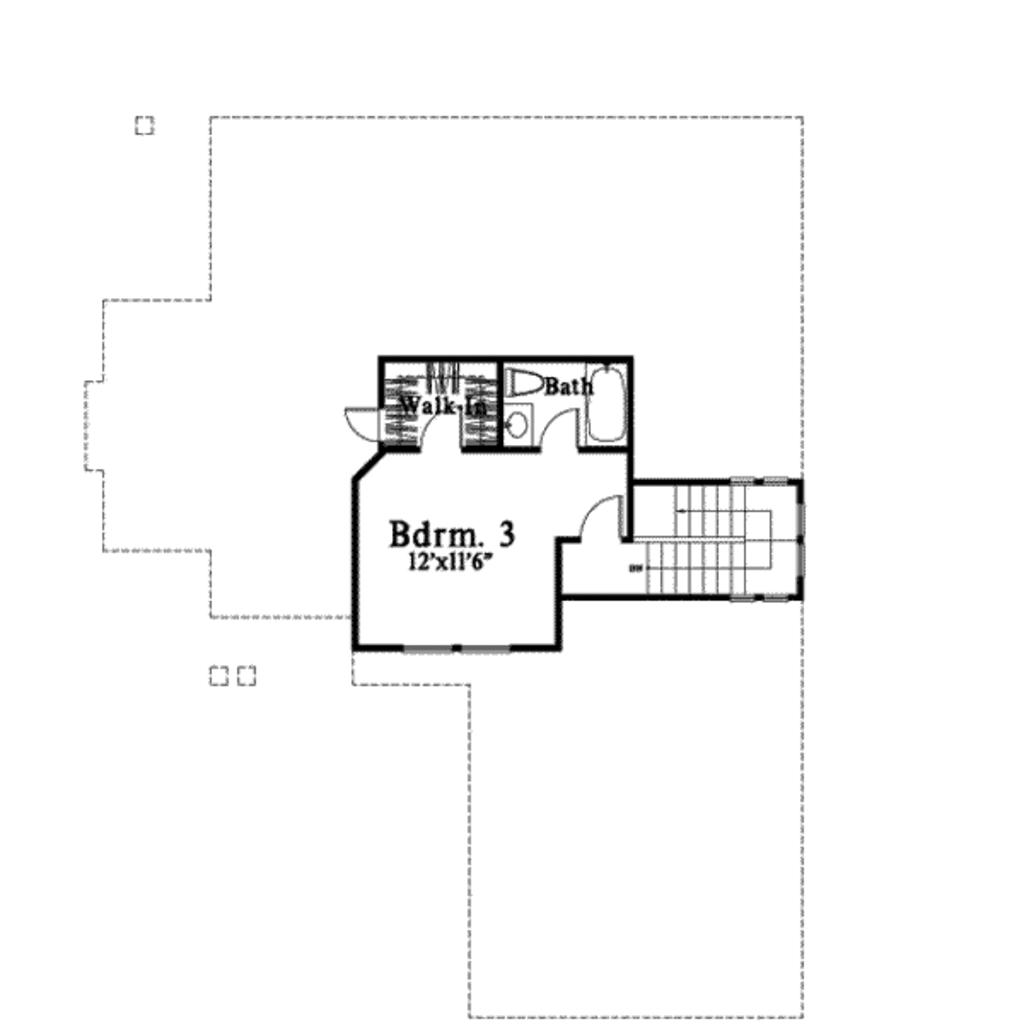door: (563, 478, 634, 537), (425, 403, 472, 453), (337, 403, 394, 441), (539, 402, 583, 449)
large_sink: (501, 360, 558, 402)
small_sink: (499, 400, 534, 451)
stairs: (621, 478, 807, 605)
tub: (578, 360, 637, 451)
window: (394, 641, 518, 656)
